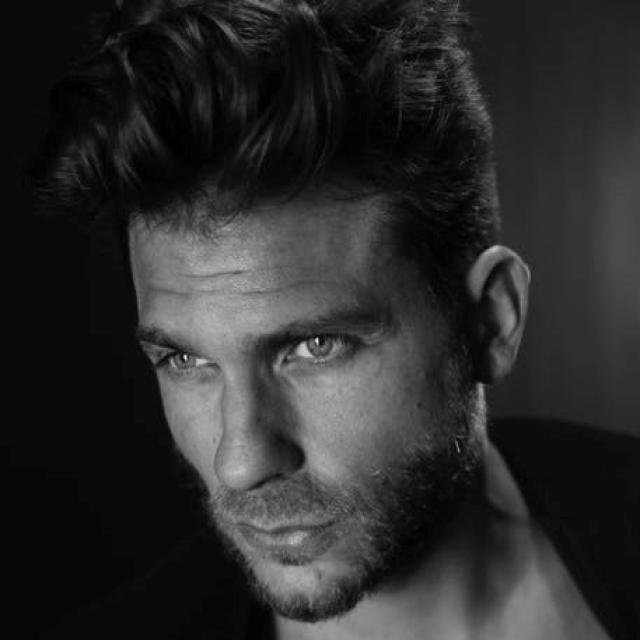Wrinkles: (203, 272, 249, 277), (150, 290, 187, 293), (278, 283, 296, 289), (177, 274, 203, 278), (263, 289, 278, 292), (296, 280, 310, 283), (313, 279, 326, 280), (210, 290, 219, 291), (219, 289, 224, 290), (243, 292, 263, 292)
